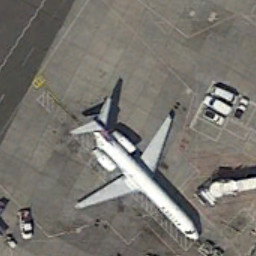Airplane: (63, 87, 205, 247)
